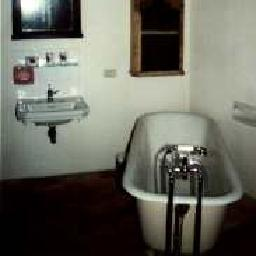Lavamanos: (14, 83, 96, 149)
Ventana: (131, 3, 183, 74)
